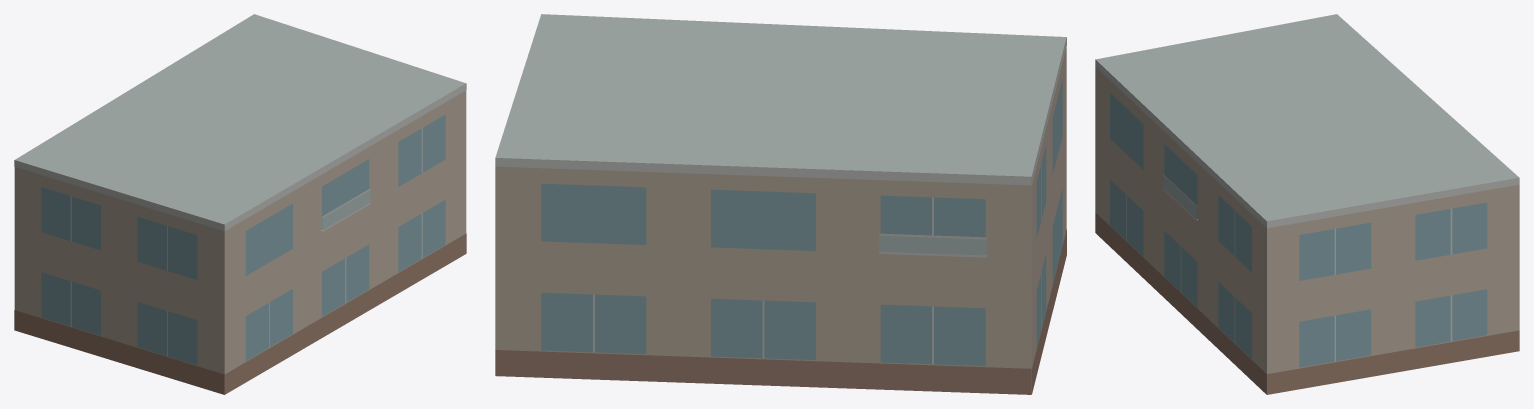
Rendered from survey-upis-32668631.glb.
3 renders of one model, left to right at view 1: azimuth 30°, elevation 25°; view 2: azimuth 150°, elevation 25°; view 3: azimuth 270°, elevation 25°, orthographic. The views are drawn at different scales.
Parts seen in each view (by area): view 1: survey-upis-32668631.tmp; view 2: survey-upis-32668631.tmp; view 3: survey-upis-32668631.tmp.
Part boxes in pixels (<box>): survey-upis-32668631.tmp: <box>14,14,466,394</box>; survey-upis-32668631.tmp: <box>495,14,1066,394</box>; survey-upis-32668631.tmp: <box>1095,14,1519,394</box>.
Size of the model in its own units: 15.65 by 6.1 by 13.53.
